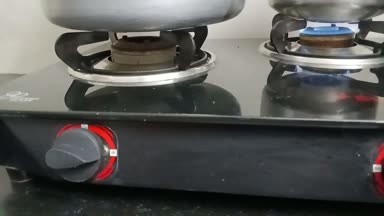flame_gas_off: (47, 23, 207, 190)
flame_gas_on: (272, 14, 380, 71)
